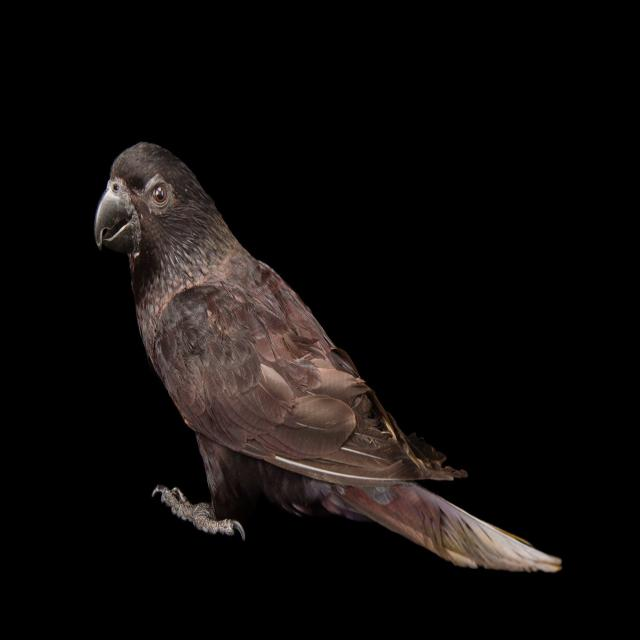Nuri Hitam: (77, 123, 568, 593)
